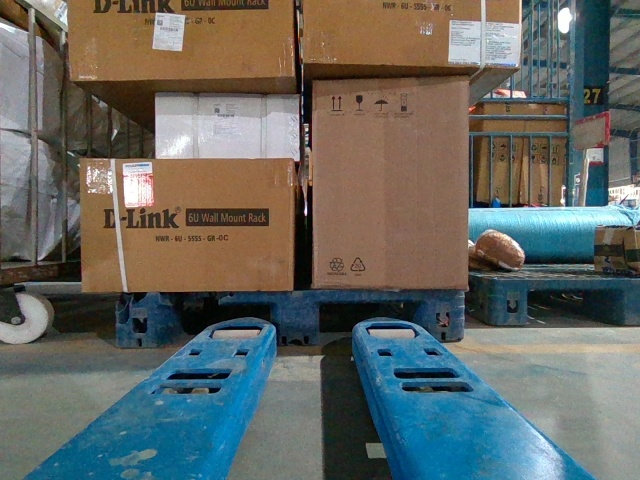block: (113, 290, 161, 345), (420, 289, 465, 342), (275, 292, 318, 342), (489, 280, 527, 324)
front: (121, 291, 465, 345)
hole pallet: (151, 293, 277, 350), (313, 294, 427, 345), (523, 284, 625, 325)
